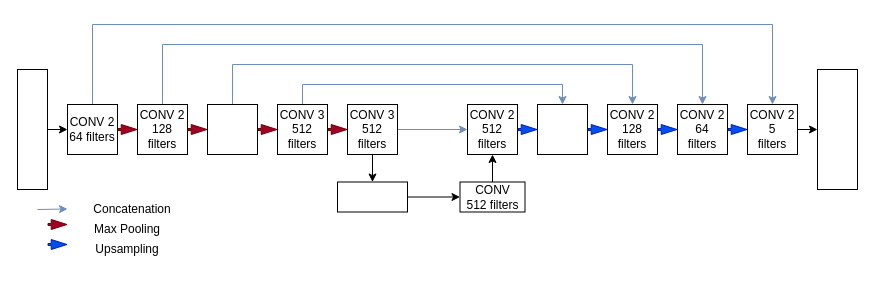
This 875x282 diagram has some shape labels left out. Each missing label, with the centre of its shape:
CONV 1024 filters: (x=372, y=196)
CONV 2 256 filters: (x=562, y=129)
CONV 3 256 filters: (x=232, y=129)
input: (x=32, y=129)
output: (x=837, y=129)
